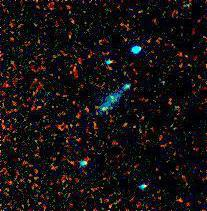star: (87, 90, 117, 120)
